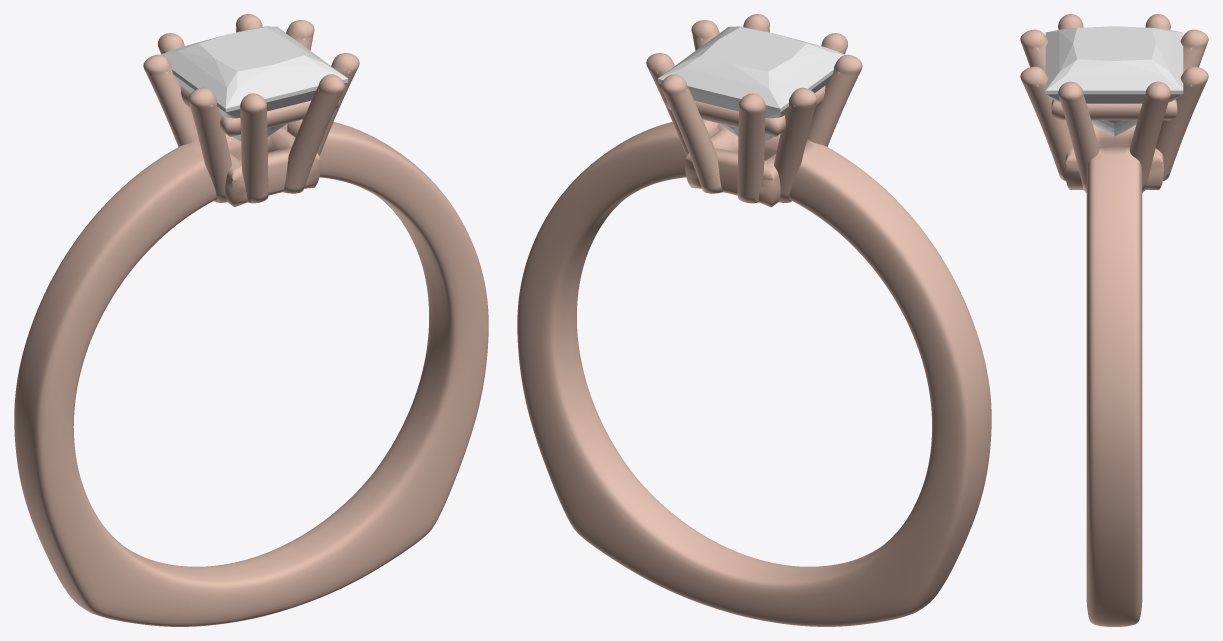
Rendered from diamond-princess-rosegold-8prong-europeanshank-solitaire.glb.
The picture shows the model from 3 angles, left to right: view 1: azimuth 30°, elevation 25°; view 2: azimuth 150°, elevation 25°; view 3: azimuth 270°, elevation 25°; orthographic projection. The views are drawn at different scales.
Visible parts, largest first — view 1: metal, stone; view 2: metal, stone; view 3: metal, stone.
Part boxes in pixels (x1,y1,x2,y2): metal: (14,14,488,626); stone: (160,26,348,140); metal: (517,14,991,626); stone: (657,26,845,140); metal: (1020,14,1208,626); stone: (1045,26,1183,136).
Size of the model in its own units: 20.11 by 23.65 by 7.42.
